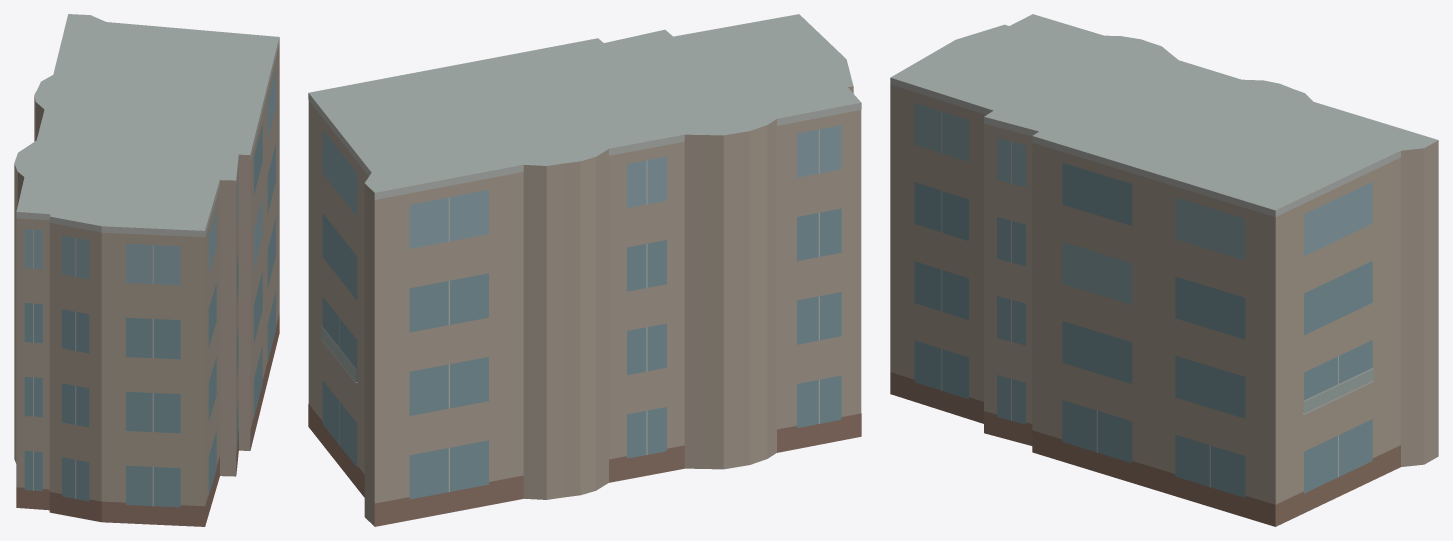
The model's file is survey-upis-32895328.glb.
The picture shows the model from 3 angles, left to right: view 1: azimuth 30°, elevation 25°; view 2: azimuth 150°, elevation 25°; view 3: azimuth 270°, elevation 25°; orthographic projection. The views are drawn at different scales.
Parts seen in each view (by area): view 1: survey-upis-32895328.tmp; view 2: survey-upis-32895328.tmp; view 3: survey-upis-32895328.tmp.
Boxes of the visible parts, box(x1,y1,x2,y2) form: survey-upis-32895328.tmp: box(14, 14, 279, 526); survey-upis-32895328.tmp: box(308, 14, 861, 526); survey-upis-32895328.tmp: box(890, 14, 1438, 526).
Bounding box in the file's own units: 15.25 × 11.45 × 17.99.
